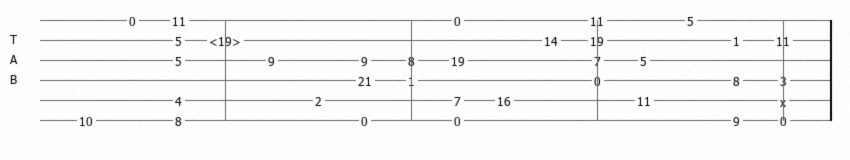0: (129, 14, 140, 27), (361, 114, 372, 127), (454, 14, 465, 27), (454, 114, 465, 127), (594, 74, 605, 87), (780, 114, 791, 127)
1: (408, 74, 419, 87), (733, 34, 744, 47)
10: (79, 114, 97, 127)
11: (172, 14, 190, 27), (590, 14, 608, 27), (637, 94, 655, 107), (776, 34, 794, 47)
14: (544, 34, 562, 47)
16: (497, 94, 515, 107)
19: (451, 54, 469, 67), (590, 34, 608, 47)
2: (315, 94, 326, 107)
21: (358, 74, 376, 87)
3: (780, 74, 791, 87)
4: (175, 94, 186, 107)
5: (175, 34, 186, 47), (175, 54, 186, 67), (640, 54, 651, 67), (687, 14, 698, 27)
7: (454, 94, 465, 107), (594, 54, 605, 67)
8: (175, 114, 186, 127), (408, 54, 419, 67), (733, 74, 744, 87)
9: (268, 54, 279, 67), (361, 54, 372, 67), (733, 114, 744, 127)
harmonic: (209, 34, 245, 47)
x: (780, 95, 790, 106)
